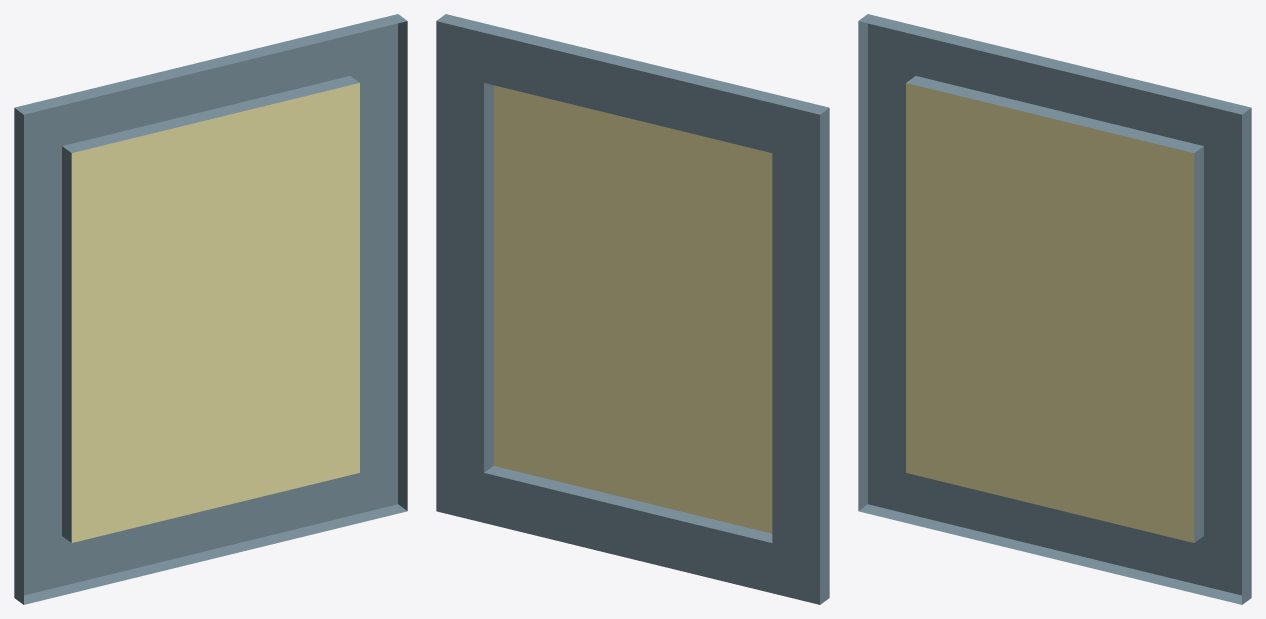
File: Window_02.fbx
3 renders of one model, left to right at view 1: azimuth 30°, elevation 25°; view 2: azimuth 150°, elevation 25°; view 3: azimuth 330°, elevation 25°, orthographic.
Parts seen in each view (by area): view 1: Window_02; view 2: Window_02; view 3: Window_02.
Part boxes in pixels (x1,y1,x2,y2): Window_02: [14, 14, 407, 604]; Window_02: [436, 14, 829, 604]; Window_02: [858, 14, 1251, 604].
Size of the model in its own units: 166 by 203 by 7.24.
